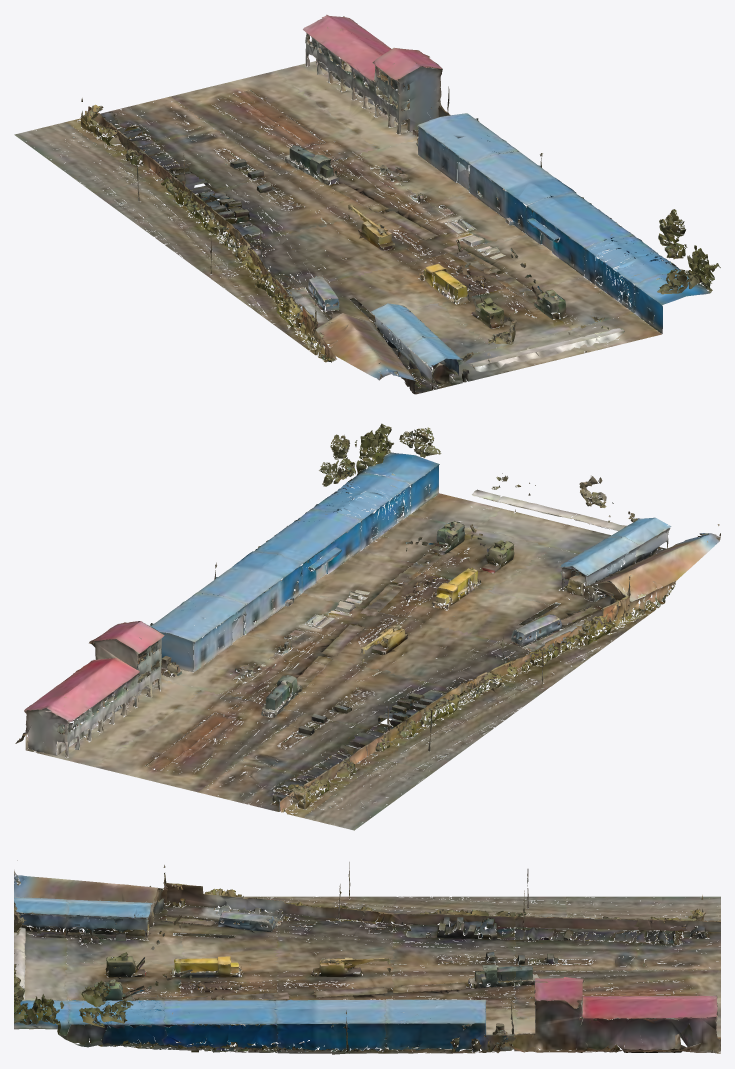
3 renders of one model, top to bottom at view 1: azimuth 30°, elevation 25°; view 2: azimuth 150°, elevation 25°; view 3: azimuth 270°, elevation 25°, orthographic. The views are drawn at different scales.
Parts seen in each view (by area): view 1: Kosmotrans_depot_scan; view 2: Kosmotrans_depot_scan; view 3: Kosmotrans_depot_scan.
Boxes of the visible parts, bbox=[...] form: Kosmotrans_depot_scan: bbox=[14, 14, 720, 394]; Kosmotrans_depot_scan: bbox=[15, 423, 720, 830]; Kosmotrans_depot_scan: bbox=[14, 860, 720, 1054].
Size of the model in its own units: 157 by 34.63 by 293.
Materials: 1 (1 with a texture image).
